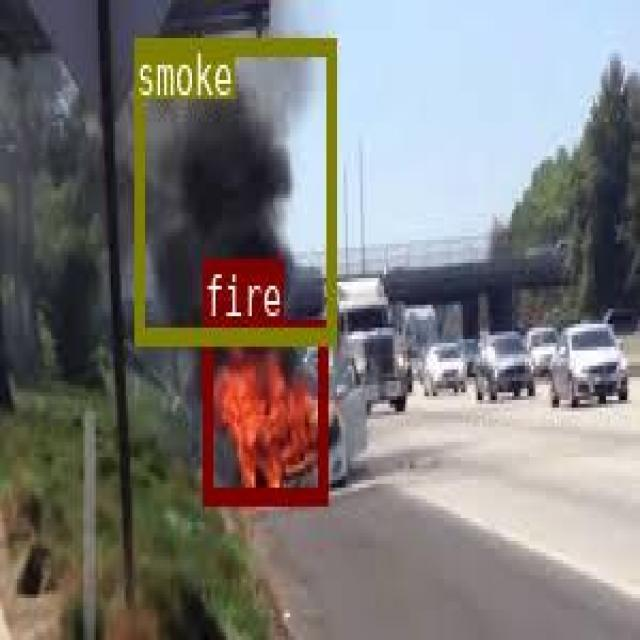fire: (202, 317, 325, 500)
smoke: (134, 37, 334, 342)
